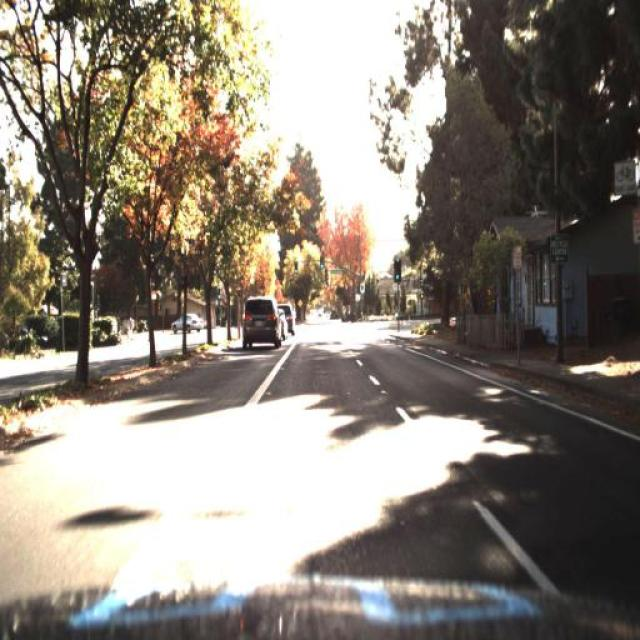car: (242, 296, 282, 346), (170, 312, 206, 336), (167, 312, 204, 332), (280, 302, 295, 339), (288, 301, 298, 338), (282, 298, 288, 342)
trafficLight-Green: (392, 263, 402, 287)
trafficLight-GreenLeft: (392, 264, 402, 288), (318, 255, 327, 280), (292, 260, 300, 282), (319, 250, 325, 270)
trafficLight-Red: (292, 261, 300, 280)
